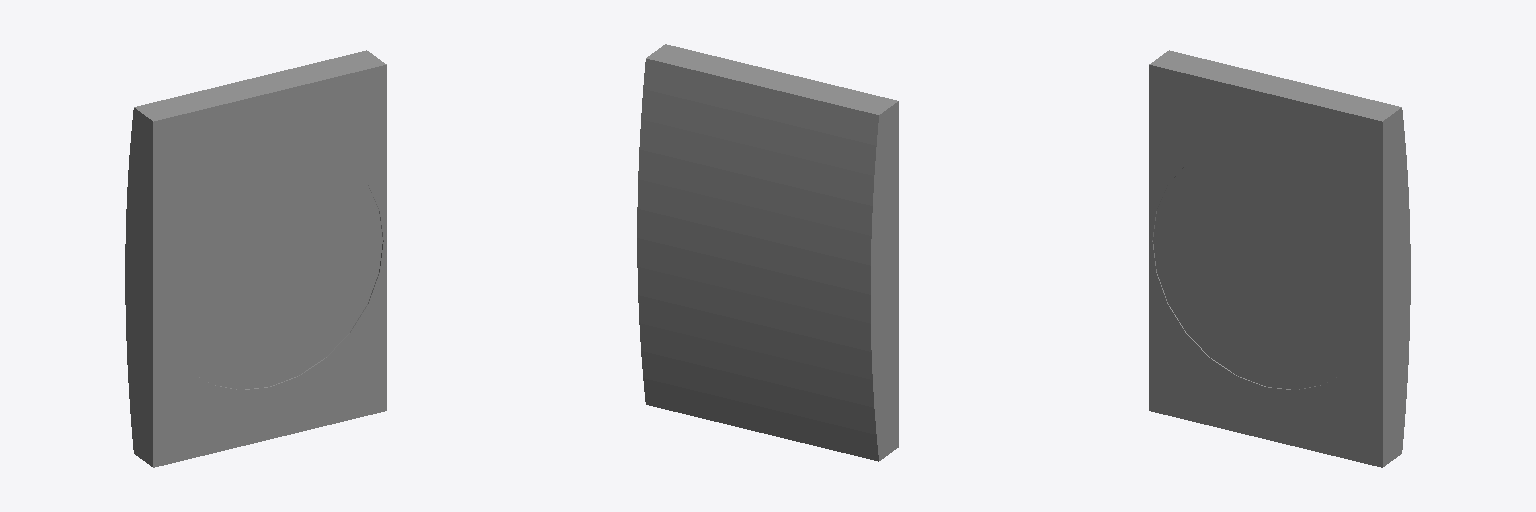
The model's file is pokoncni_plasc_centered.obj.
The picture shows the model from 3 angles: view 1: azimuth 30°, elevation 25°; view 2: azimuth 150°, elevation 25°; view 3: azimuth 330°, elevation 25°; orthographic projection.
Visible parts, largest first — view 1: animacija-SKP-Default_Material; view 2: animacija-SKP-Default_Material; view 3: animacija-SKP-Default_Material.
Part boxes in pixels (x1,y1,x2,y2): animacija-SKP-Default_Material: (125,50,386,467); animacija-SKP-Default_Material: (637,44,898,461); animacija-SKP-Default_Material: (1149,50,1410,467).
Bounding box in the file's own units: 0.22 × 0.312 × 0.046.